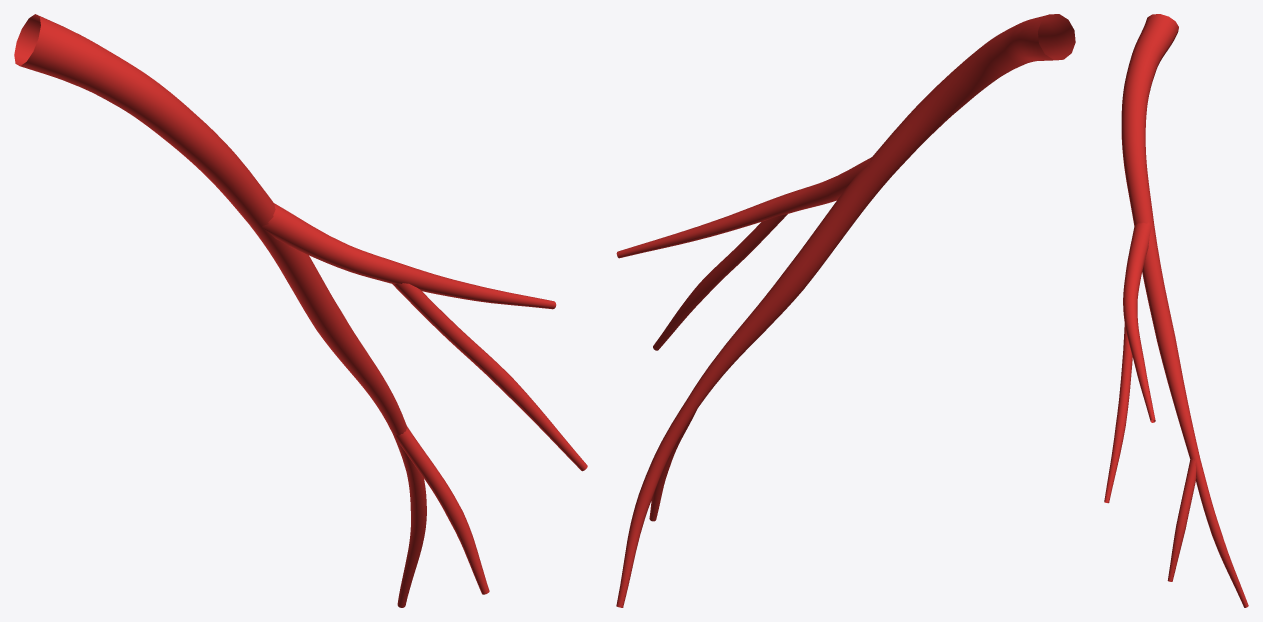
The model's file is circulatorio-superior-basal-vein-of-left-lung.glb.
3 renders of one model, left to right at view 1: azimuth 30°, elevation 25°; view 2: azimuth 150°, elevation 25°; view 3: azimuth 270°, elevation 25°, orthographic. The views are drawn at different scales.
Parts seen in each view (by area): view 1: Superior basal vein of left lung; view 2: Superior basal vein of left lung; view 3: Superior basal vein of left lung.
Part boxes in pixels (<box>): Superior basal vein of left lung: <box>14,14,587,607</box>; Superior basal vein of left lung: <box>616,14,1075,607</box>; Superior basal vein of left lung: <box>1104,14,1248,607</box>.
Bounding box in the file's own units: 0.0753 × 0.1008 × 0.0286.
